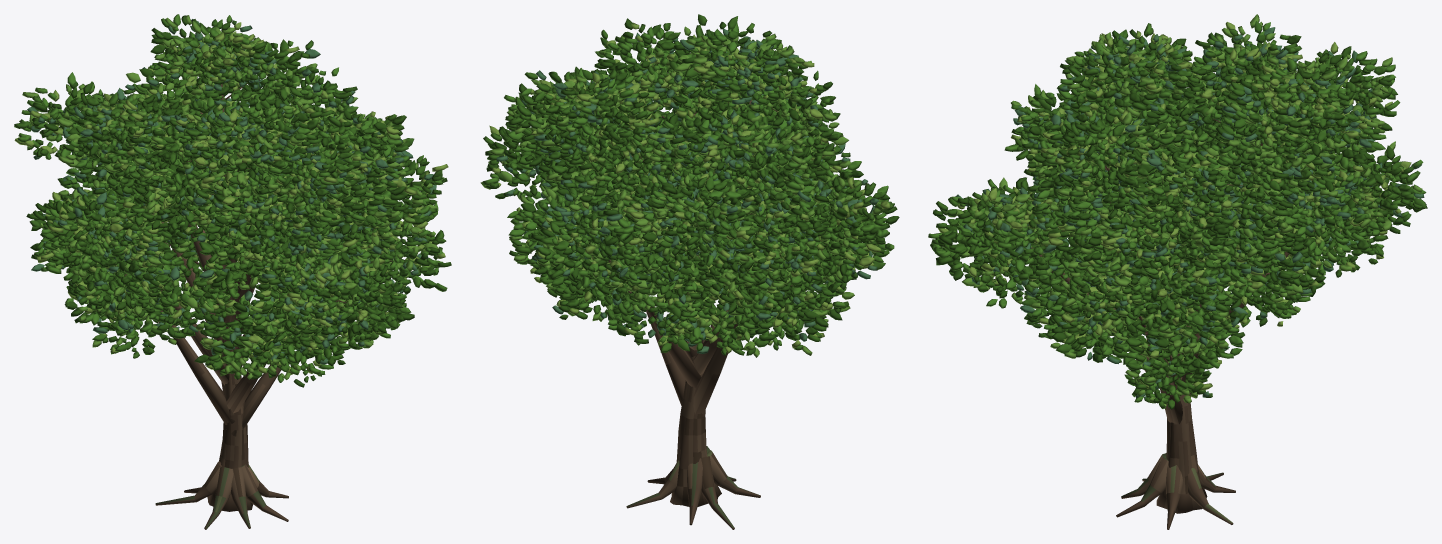
File: forest-tree-0.glb
The picture shows the model from 3 angles, left to right: view 1: azimuth 30°, elevation 25°; view 2: azimuth 150°, elevation 25°; view 3: azimuth 270°, elevation 25°; orthographic projection. The views are drawn at different scales.
Visible parts, largest first — view 1: forest-tree-0/1, forest-tree-0/0; view 2: forest-tree-0/1, forest-tree-0/0; view 3: forest-tree-0/1, forest-tree-0/0.
Boxes of the visible parts, x1,y1,x2,y2 form: forest-tree-0/1: [14, 14, 451, 387]; forest-tree-0/0: [121, 67, 392, 529]; forest-tree-0/1: [480, 14, 899, 357]; forest-tree-0/0: [592, 72, 792, 529]; forest-tree-0/1: [928, 14, 1427, 409]; forest-tree-0/0: [1028, 107, 1314, 529].
Bounding box in the file's own units: 12.23 × 12.69 × 12.64.
